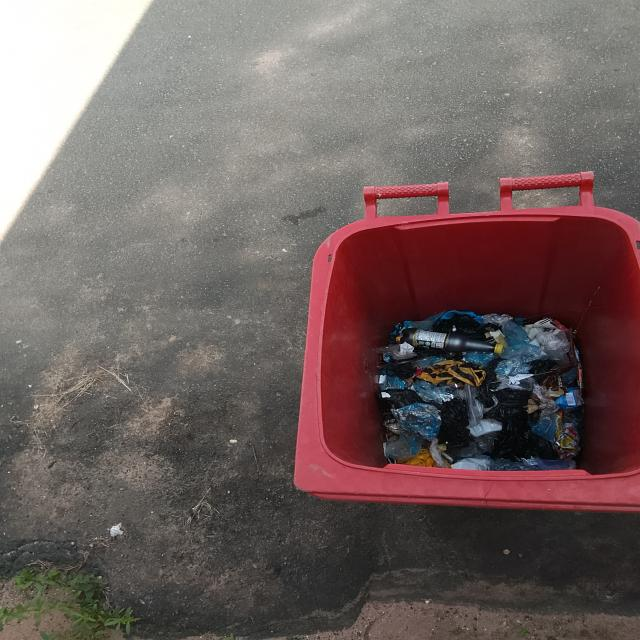half-full: (287, 202, 640, 506)
